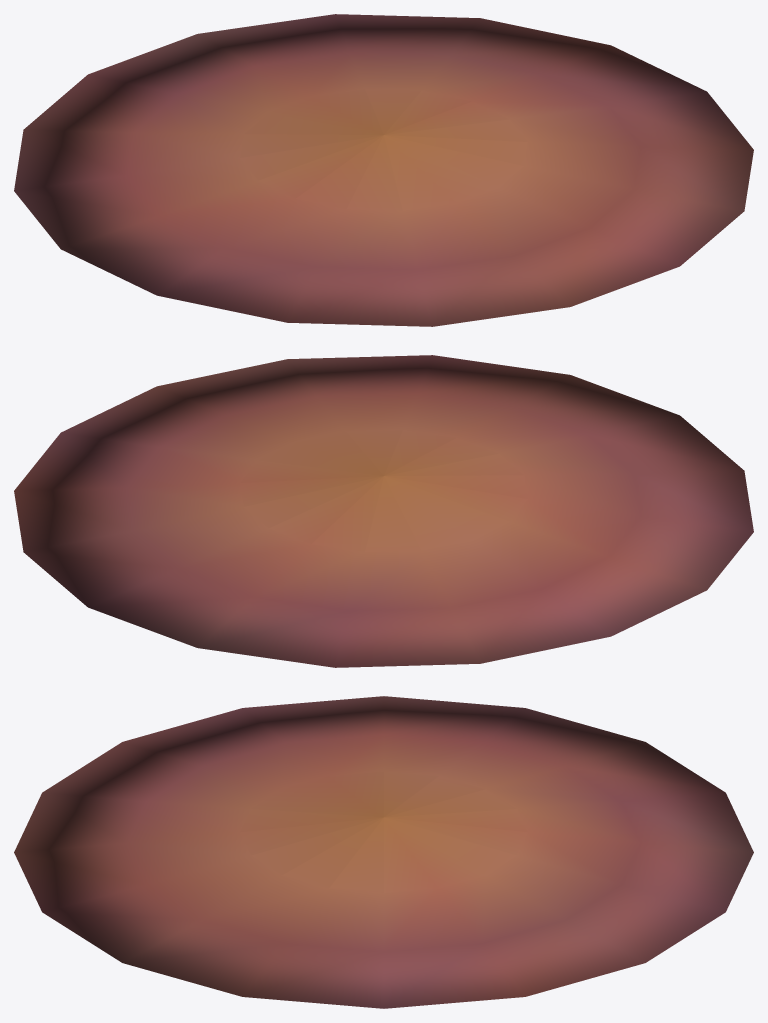
Rendered from space-galaxies-galaxy_v15.glb.
3 views of the same model, one above another, from view 1: azimuth 30°, elevation 25°; view 2: azimuth 150°, elevation 25°; view 3: azimuth 270°, elevation 25° (orthographic).
Parts seen in each view (by area): view 1: Galaxy_v15; view 2: Galaxy_v15; view 3: Galaxy_v15.
Part boxes in pixels (box(x1,y1,x2,y2)): Galaxy_v15: box(14, 14, 753, 326); Galaxy_v15: box(14, 355, 753, 667); Galaxy_v15: box(14, 696, 753, 1008).
Bounding box in the file's own units: 0.5 × 0.0436 × 0.5.
